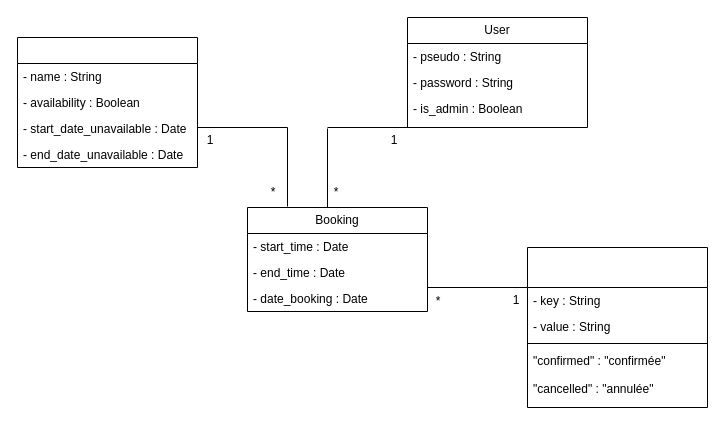
Image size: 725x428. Some labels were removed from this diagram. Each missing label, with the box of its shape:
<<enumeration>> status: (526, 246, 708, 408)
Courts: (16, 36, 198, 168)
